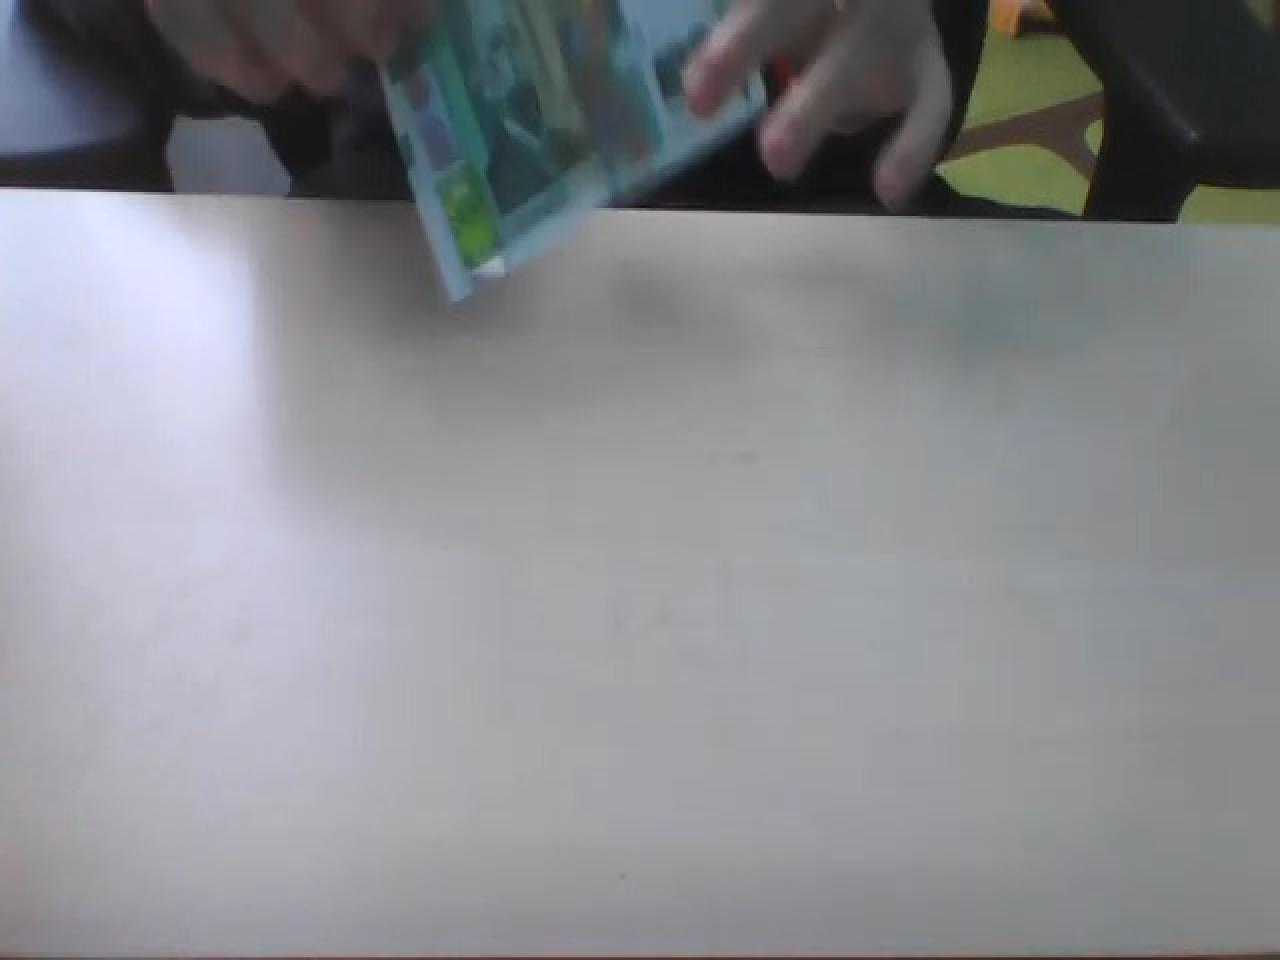100leva: (372, 0, 1274, 304), (374, 0, 786, 304)
